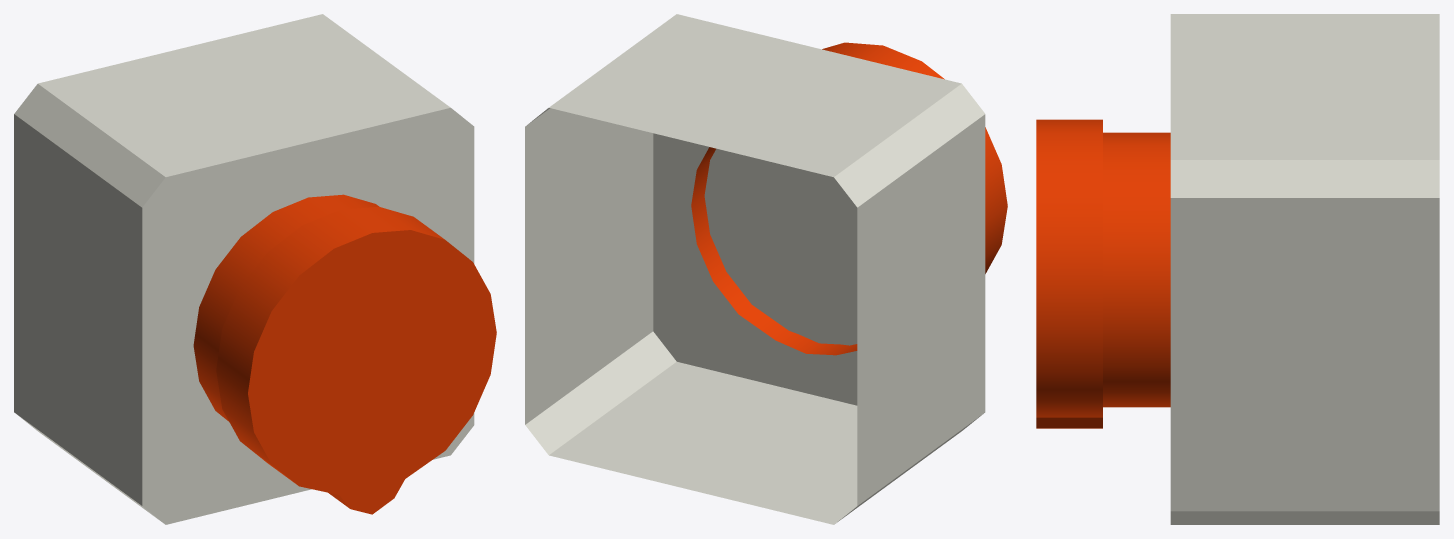
Rendered from electrical_outlet.fbx.
3 views of the same model, side by side, from view 1: azimuth 30°, elevation 25°; view 2: azimuth 150°, elevation 25°; view 3: azimuth 270°, elevation 25° (orthographic). The views are drawn at different scales.
Parts seen in each view (by area): view 1: Cube; view 2: Cube; view 3: Cube.
Part boxes in pixels (<box>): Cube: <box>14,14,496,524</box>; Cube: <box>525,14,1007,524</box>; Cube: <box>1036,14,1439,524</box>.
Size of the model in its own units: 0.1347 by 0.1347 by 0.1349.
